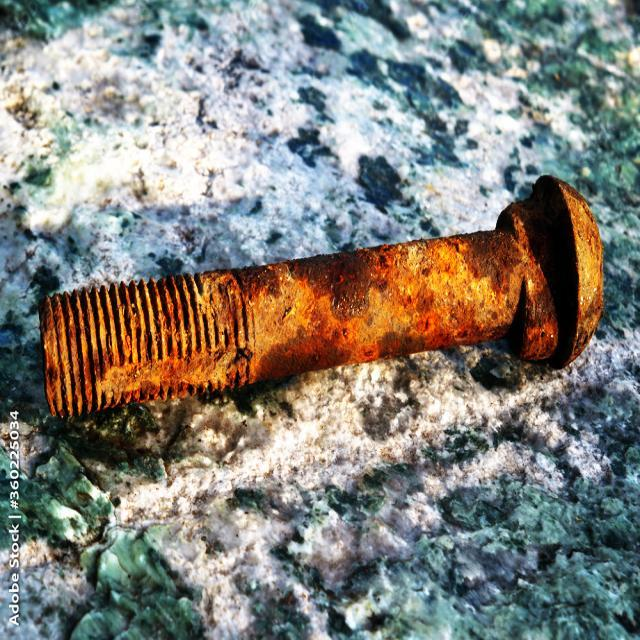Uniform Corrosion: (41, 176, 602, 416)
